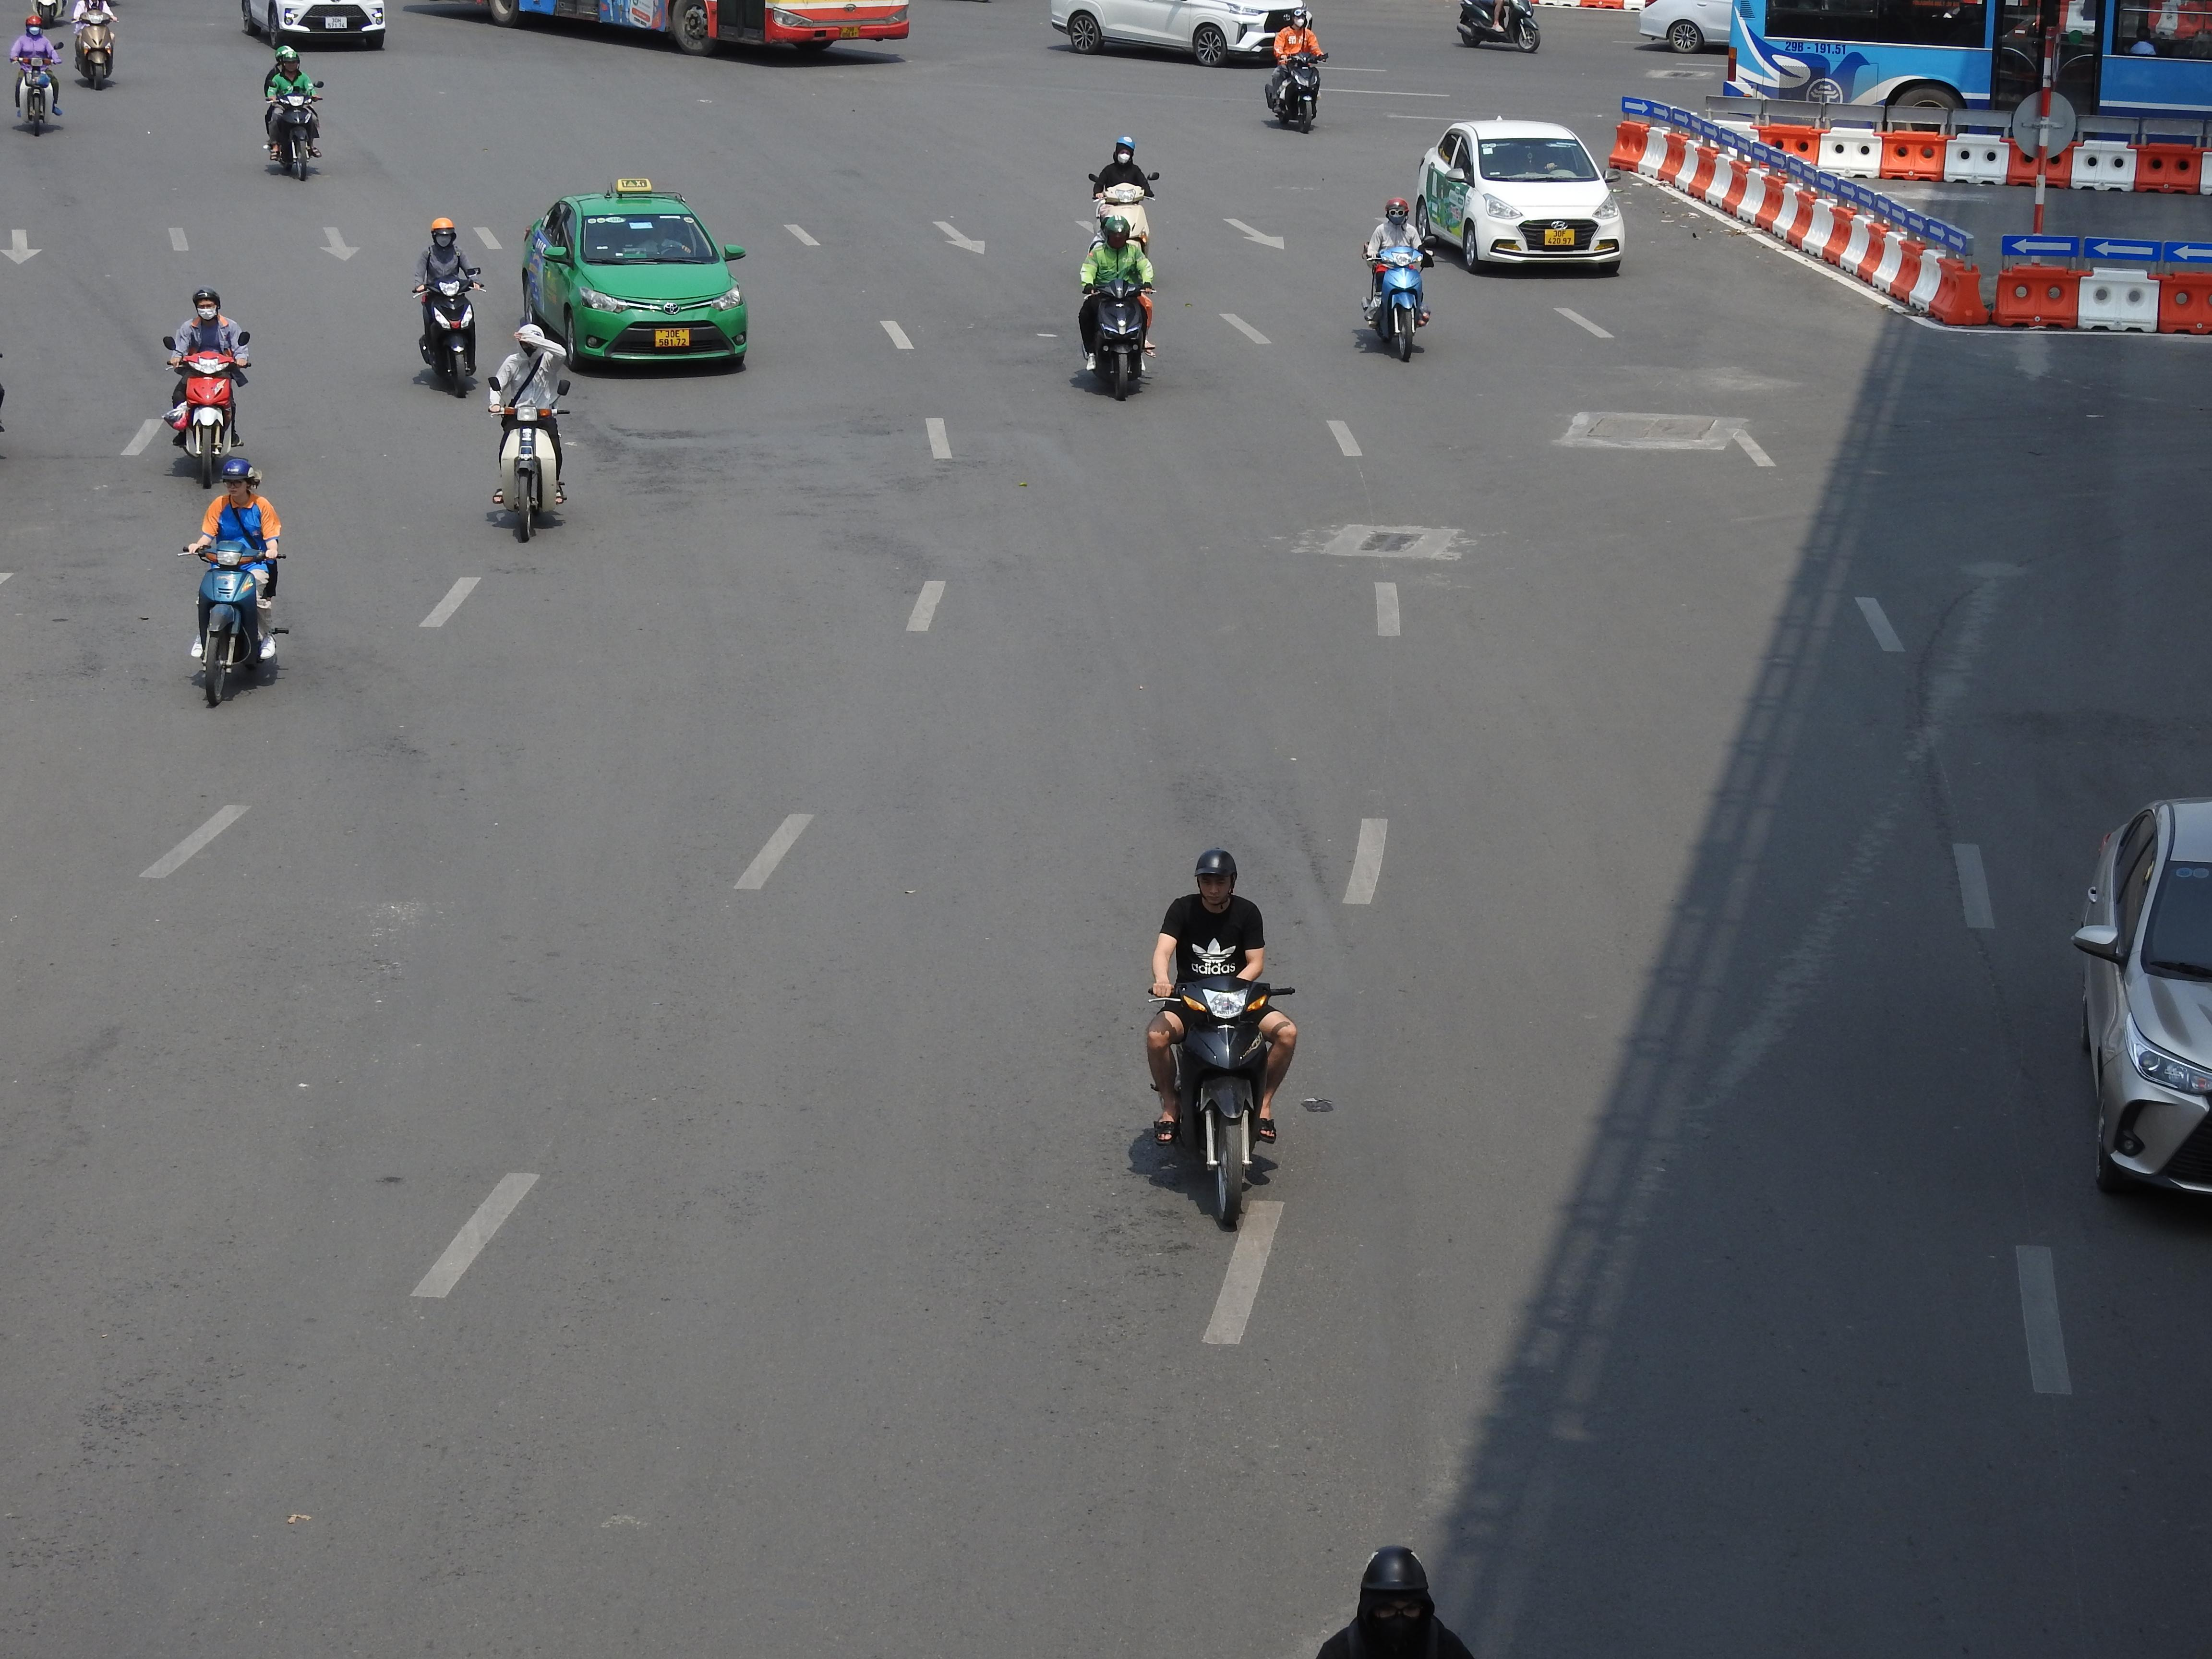BSV: (655, 328, 690, 349), (1545, 228, 1575, 246), (324, 16, 347, 28)
bus: (415, 0, 916, 58)
car: (2069, 793, 2212, 1216), (519, 185, 749, 373), (1414, 120, 1625, 277), (1049, 0, 1313, 66), (240, 0, 387, 52), (1632, 0, 1733, 52)
motorbike: (1144, 845, 1298, 1234), (183, 455, 284, 708), (486, 319, 571, 542), (164, 286, 251, 486), (1075, 213, 1157, 403), (413, 216, 484, 397), (1359, 197, 1432, 362), (1089, 134, 1158, 256), (263, 47, 324, 179), (1264, 3, 1325, 134), (10, 12, 63, 134), (1456, 0, 1541, 52), (71, 0, 118, 91)
